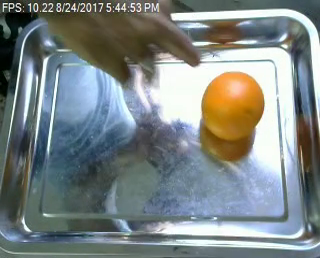Orange: (201, 71, 265, 141)
